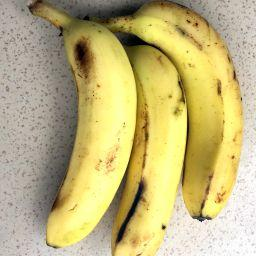banana: (94, 0, 248, 224), (26, 0, 141, 252), (107, 43, 192, 256)
